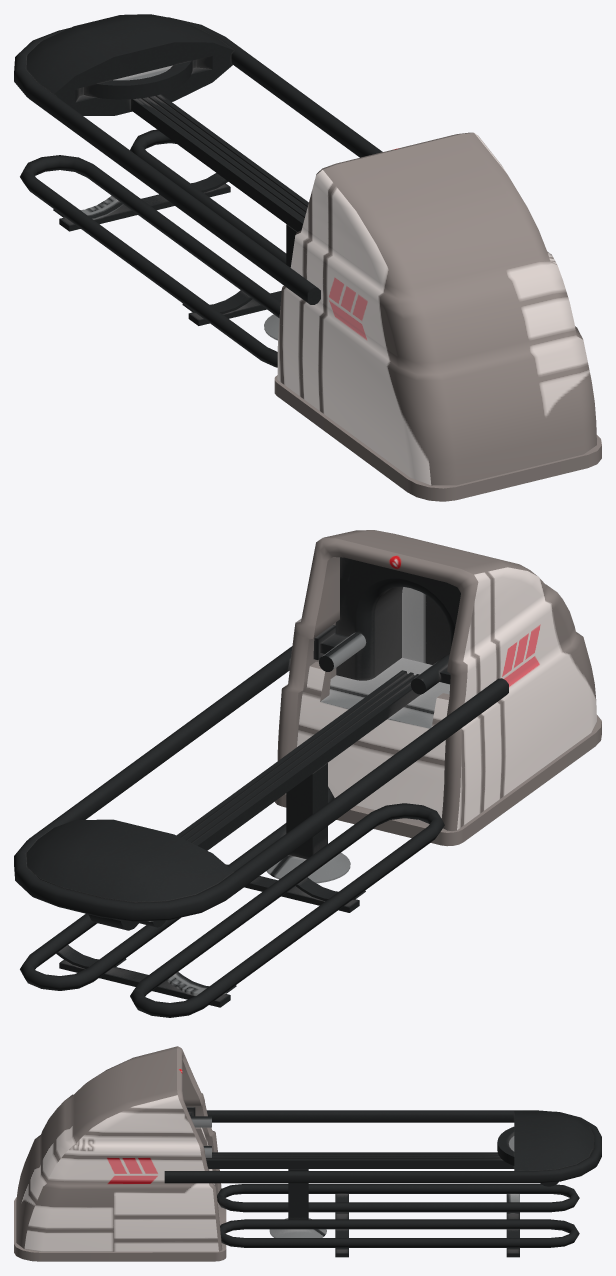
File: SM_BowlMachine.fbx
3 renders of one model, top to bottom at view 1: azimuth 30°, elevation 25°; view 2: azimuth 150°, elevation 25°; view 3: azimuth 270°, elevation 25°, orthographic. The views are drawn at different scales.
Visible parts, largest first — view 1: SM_BowlMachine_LOD0; view 2: SM_BowlMachine_LOD0; view 3: SM_BowlMachine_LOD0.
Boxes of the visible parts, bbox=[...] form: SM_BowlMachine_LOD0: bbox=[14, 14, 601, 501]; SM_BowlMachine_LOD0: bbox=[14, 530, 601, 1017]; SM_BowlMachine_LOD0: bbox=[14, 1046, 601, 1261].
Size of the model in its own units: 49.4 by 189 by 57.44.
1 material, 1 textured.
